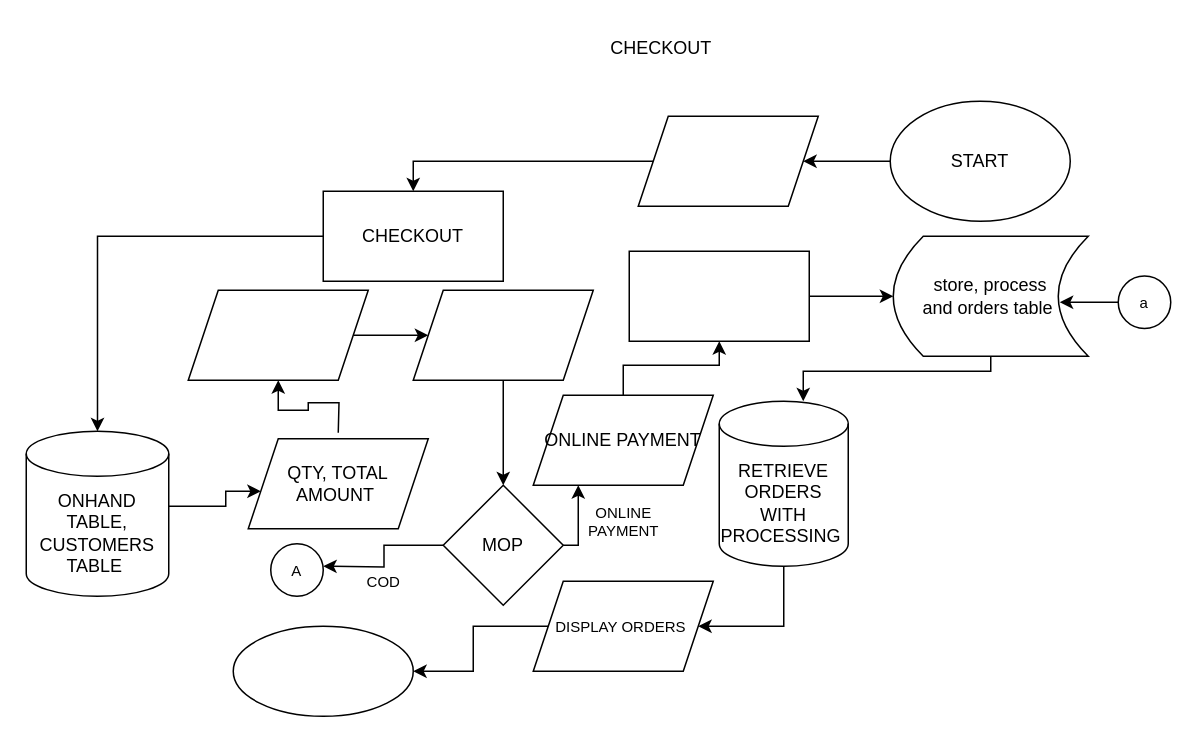
Some shapes in this 1197 by 743 pixel diagram are drawn without their labels. The centre of each missing label's shape, as x and y in pixels:
CART ITEMS: point (727, 160)
CHECKED OUT: point (718, 295)
END: point (322, 670)
PRODUCT INFORMATION: point (502, 334)
USER'S INFORMATION: point (277, 334)
